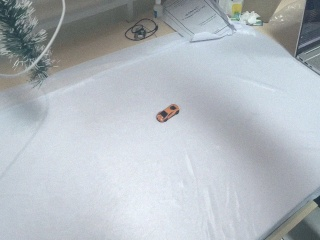toy_car: (156, 104, 180, 123)
